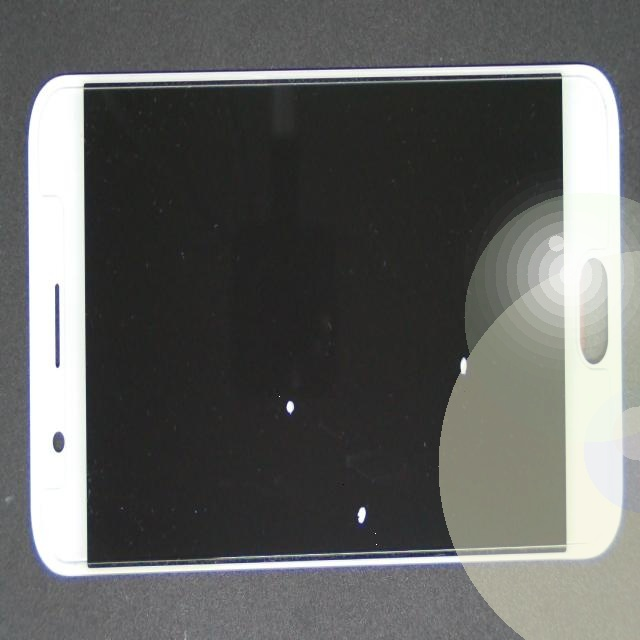stain: (221, 135, 640, 529), (171, 277, 512, 640), (134, 174, 417, 600)
